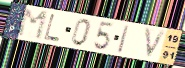0: (70, 18, 92, 48)
5: (92, 20, 117, 51)
I: (116, 24, 131, 56)
L: (42, 13, 60, 44)
M: (16, 8, 50, 42)
V: (143, 26, 169, 61)
